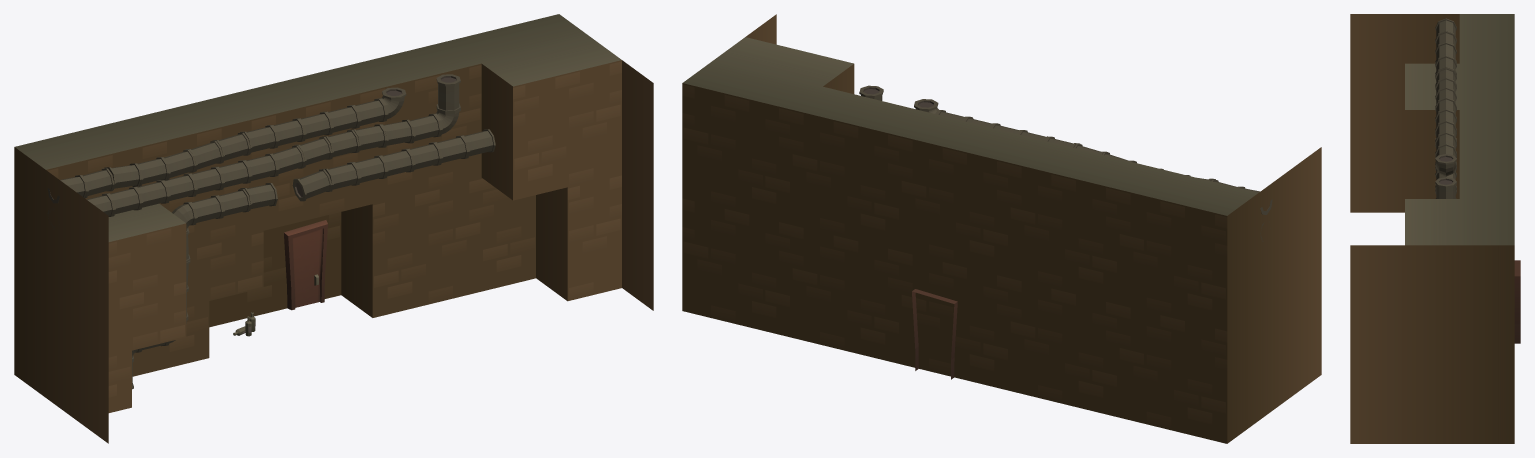
Rendered from Room31_8x20.fbx.
3 renders of one model, left to right at view 1: azimuth 30°, elevation 25°; view 2: azimuth 150°, elevation 25°; view 3: azimuth 270°, elevation 25°, orthographic. The views are drawn at different scales.
Parts seen in each view (by area): view 1: Room31_8x20; view 2: Room31_8x20; view 3: Room31_8x20.
Boxes of the visible parts, x1,y1,x2,y2 form: Room31_8x20: (14, 14, 653, 443); Room31_8x20: (682, 14, 1321, 443); Room31_8x20: (1350, 14, 1520, 443).
Size of the model in its own units: 2002 by 622 by 800.
